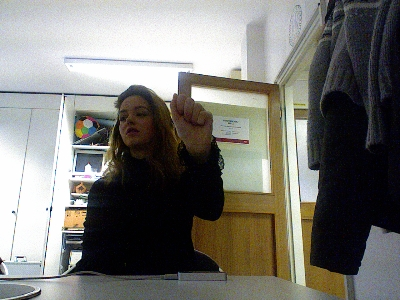石头: (168, 92, 214, 153)
